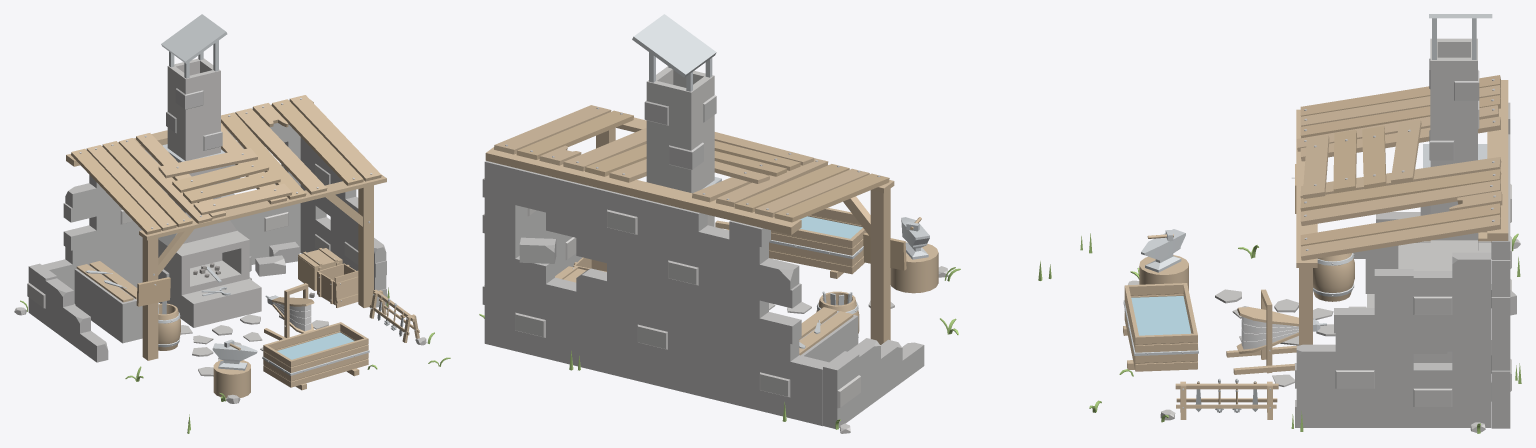
Rendered from BlackSmith_Mesh.fbx.
3 views of the same model, side by side, from view 1: azimuth 30°, elevation 25°; view 2: azimuth 150°, elevation 25°; view 3: azimuth 270°, elevation 25° (orthographic). The views are drawn at different scales.
Parts seen in each view (by area): view 1: BlackSmith; view 2: BlackSmith; view 3: BlackSmith.
Part boxes in pixels (x1,y1,x2,y2): BlackSmith: (14, 14, 450, 433); BlackSmith: (479, 14, 1051, 433); BlackSmith: (1080, 14, 1521, 433).
Size of the model in its own units: 760 by 632 by 727.
